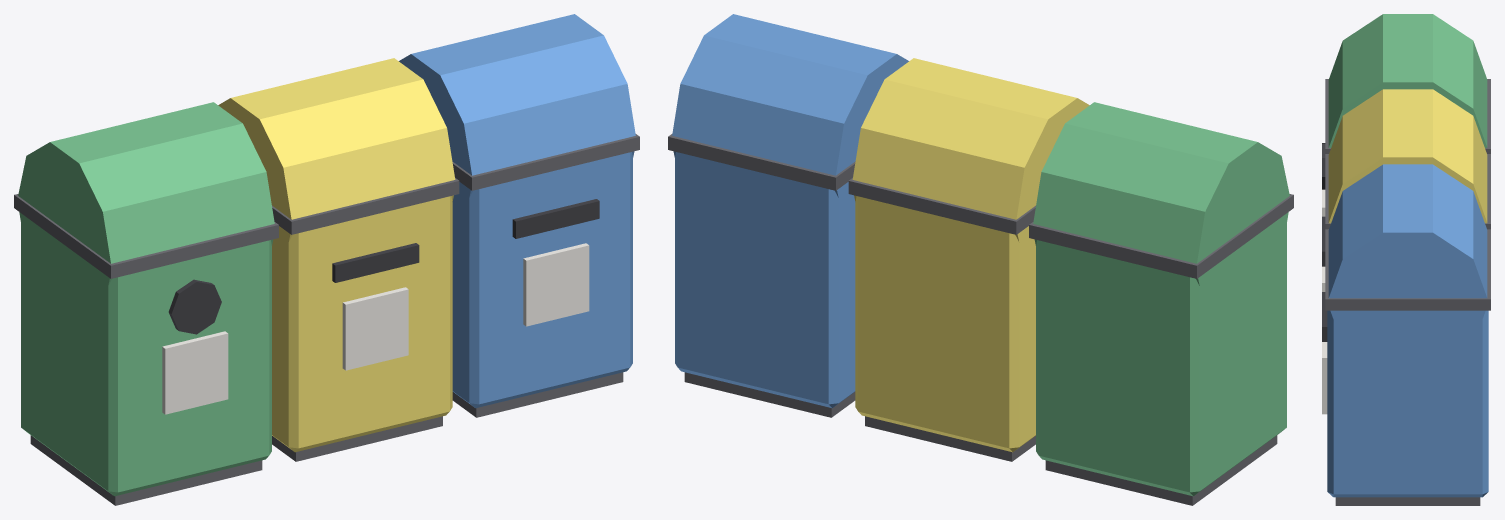
The model's file is prop_recycling_01.glb.
The picture shows the model from 3 angles, left to right: view 1: azimuth 30°, elevation 25°; view 2: azimuth 150°, elevation 25°; view 3: azimuth 270°, elevation 25°; orthographic projection. The views are drawn at different scales.
Visible parts, largest first — view 1: prop_recycling_01_body; view 2: prop_recycling_01_body; view 3: prop_recycling_01_body.
Part boxes in pixels (x1=…): prop_recycling_01_body: x1=14, y1=14, x2=639, y2=505; prop_recycling_01_body: x1=668, y1=14, x2=1293, y2=505; prop_recycling_01_body: x1=1322, y1=14, x2=1490, y2=505.
Size of the model in its own units: 2.52 by 1.48 by 0.815.
